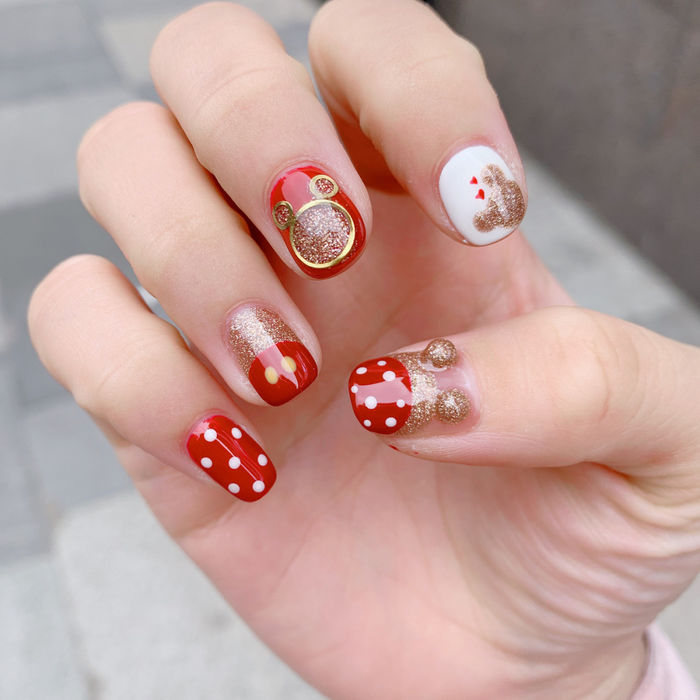nails: (347, 335, 482, 440), (263, 158, 371, 286), (219, 295, 324, 409), (430, 135, 528, 251), (184, 412, 284, 505)
